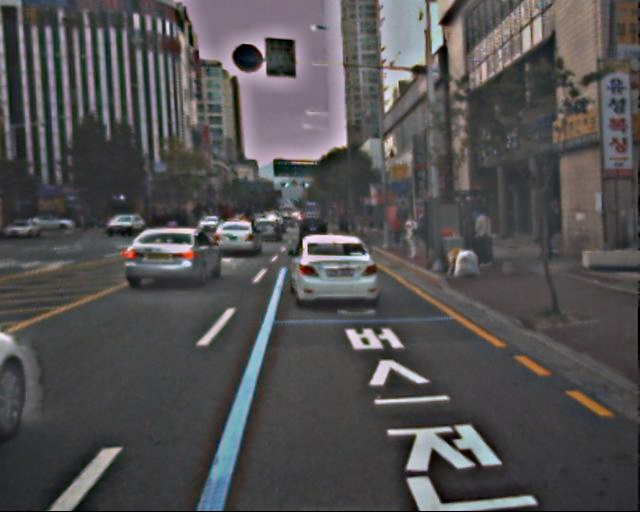person: (471, 209, 497, 272), (536, 211, 557, 263), (401, 213, 422, 263)
